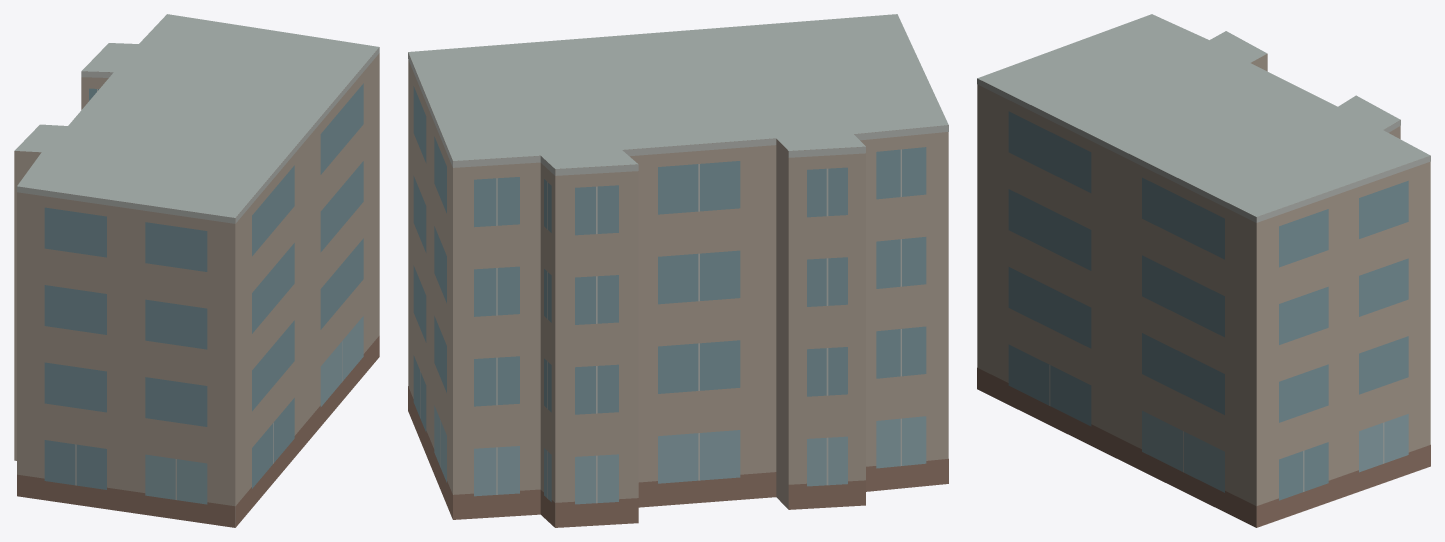
The model's file is survey-upis-33043237.glb.
The picture shows the model from 3 angles, left to right: view 1: azimuth 30°, elevation 25°; view 2: azimuth 150°, elevation 25°; view 3: azimuth 270°, elevation 25°; orthographic projection. The views are drawn at different scales.
Parts seen in each view (by area): view 1: survey-upis-33043237.tmp; view 2: survey-upis-33043237.tmp; view 3: survey-upis-33043237.tmp.
Part boxes in pixels (x1=…): survey-upis-33043237.tmp: x1=14, y1=14, x2=379, y2=527; survey-upis-33043237.tmp: x1=408, y1=14, x2=948, y2=527; survey-upis-33043237.tmp: x1=977, y1=14, x2=1430, y2=527.
Size of the model in its own units: 17.94 by 12.8 by 16.94.
